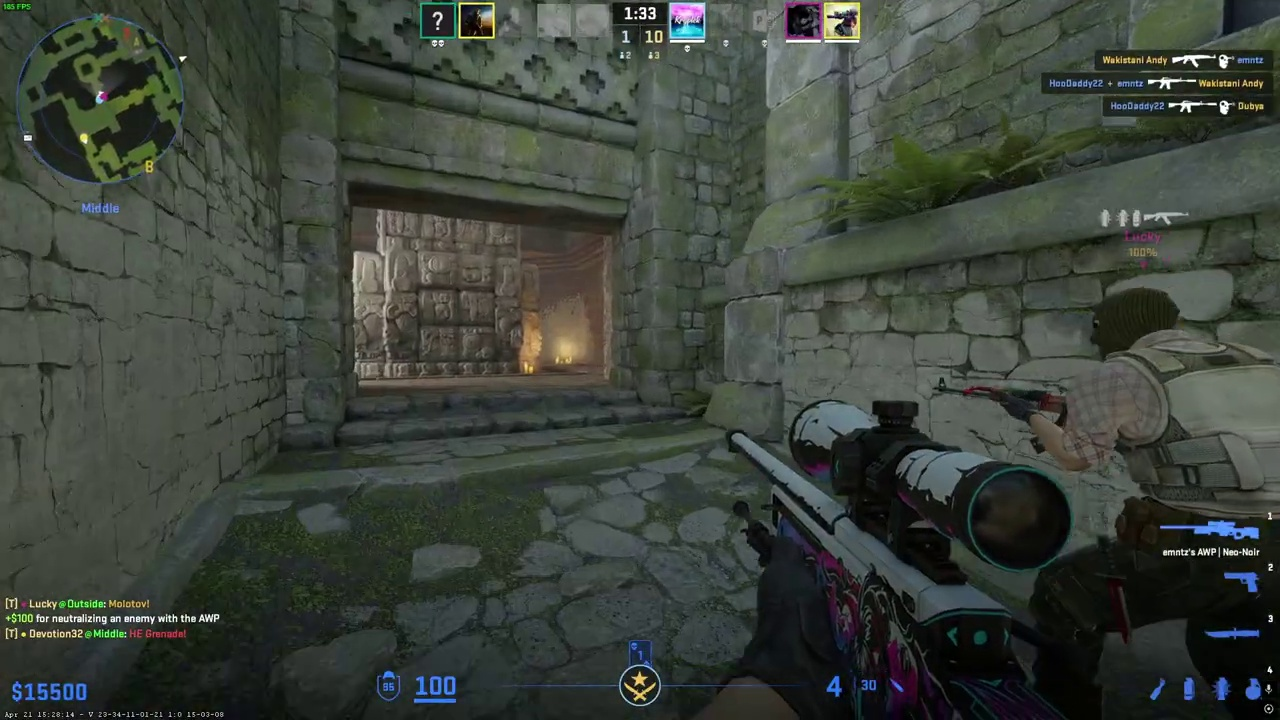Terrorist: (1026, 289, 1280, 720)
